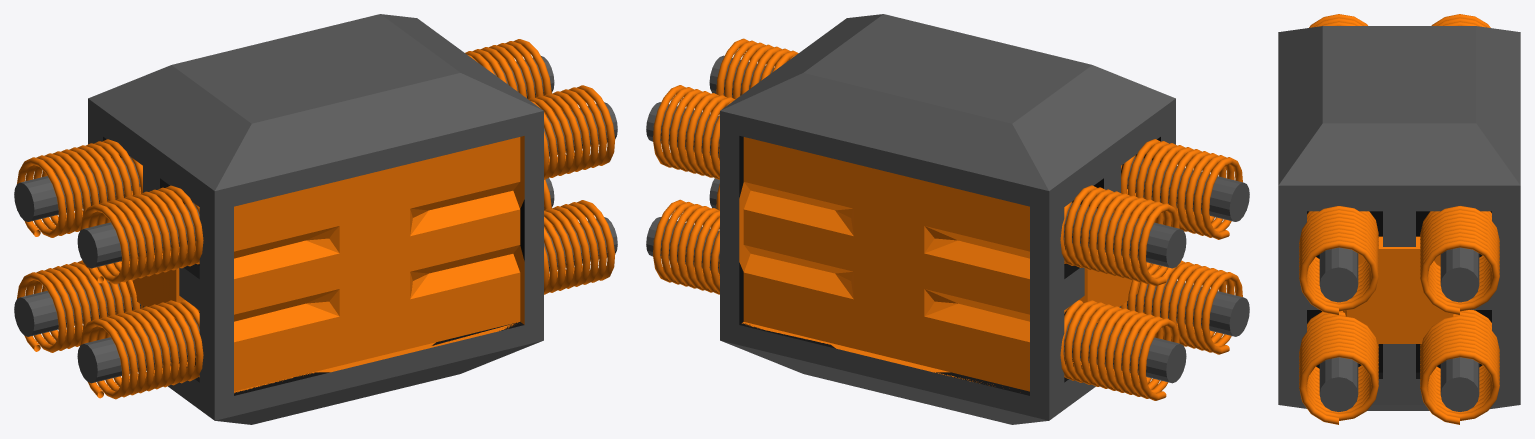
The model's file is SuspensionBlock.fbx.
3 renders of one model, left to right at view 1: azimuth 30°, elevation 25°; view 2: azimuth 150°, elevation 25°; view 3: azimuth 270°, elevation 25°, orthographic. The views are drawn at different scales.
Visible parts, largest first — view 1: Block1, Block2, Spring; view 2: Block1, Block2, Spring; view 3: Block2, Block1, Spring.
Part boxes in pixels (x1,y1,x2,y2): Block1: [96, 14, 543, 420]; Block2: [88, 15, 543, 424]; Spring: [14, 39, 617, 399]; Block1: [720, 14, 1175, 424]; Block2: [720, 14, 1160, 420]; Spring: [646, 38, 1249, 400]; Block2: [1278, 26, 1520, 410]; Block1: [1278, 26, 1520, 410]; Spring: [1299, 14, 1499, 424].
Size of the model in its own units: 474 by 262 by 200.
